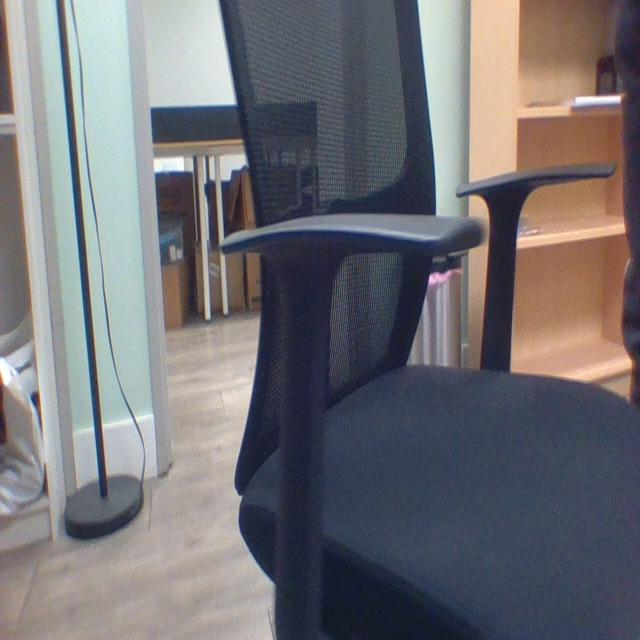black-chair: (208, 0, 640, 639)
